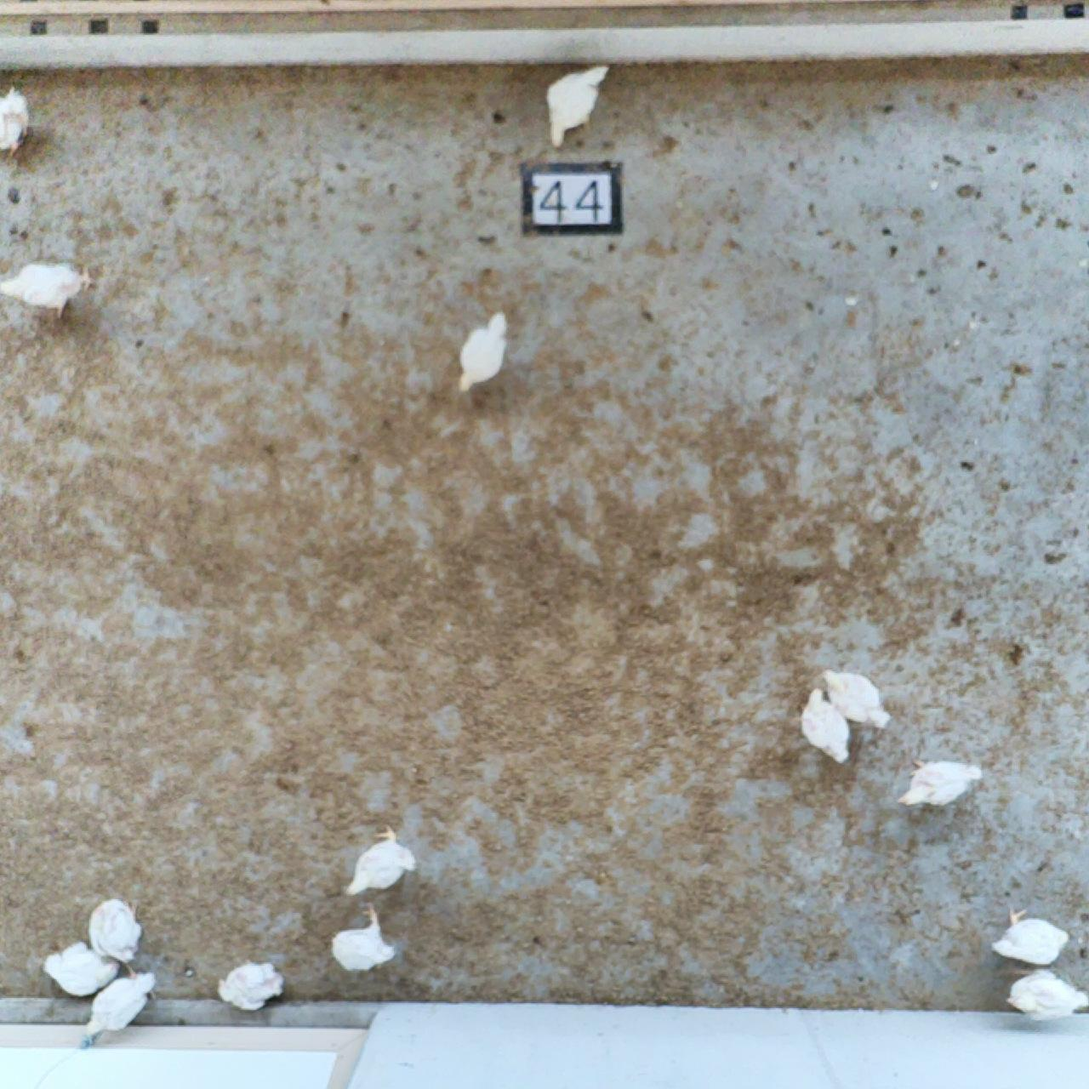chicken: (0, 253, 99, 322), (540, 59, 613, 152), (343, 820, 422, 902), (450, 304, 517, 399), (815, 657, 895, 733), (988, 899, 1076, 968), (892, 750, 990, 811), (83, 967, 162, 1041), (85, 889, 148, 981), (791, 681, 857, 768), (326, 900, 402, 970), (39, 935, 122, 999), (1001, 966, 1089, 1022), (213, 951, 286, 1013), (0, 77, 32, 158)
